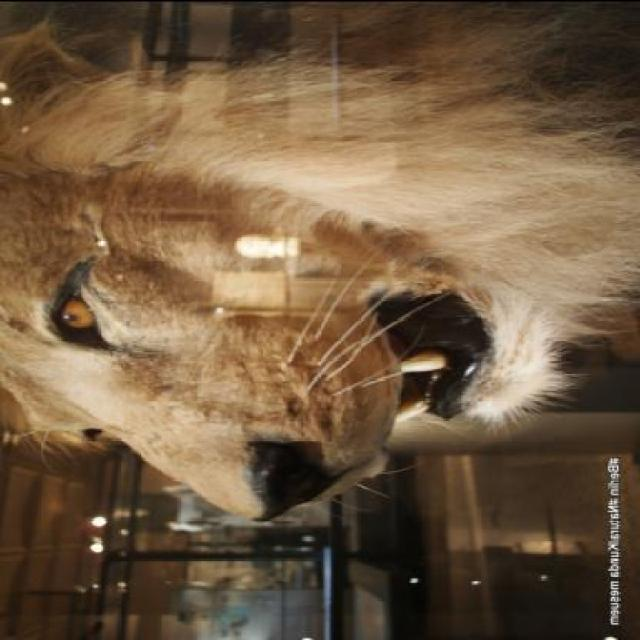Lion: (3, 115, 639, 532)
